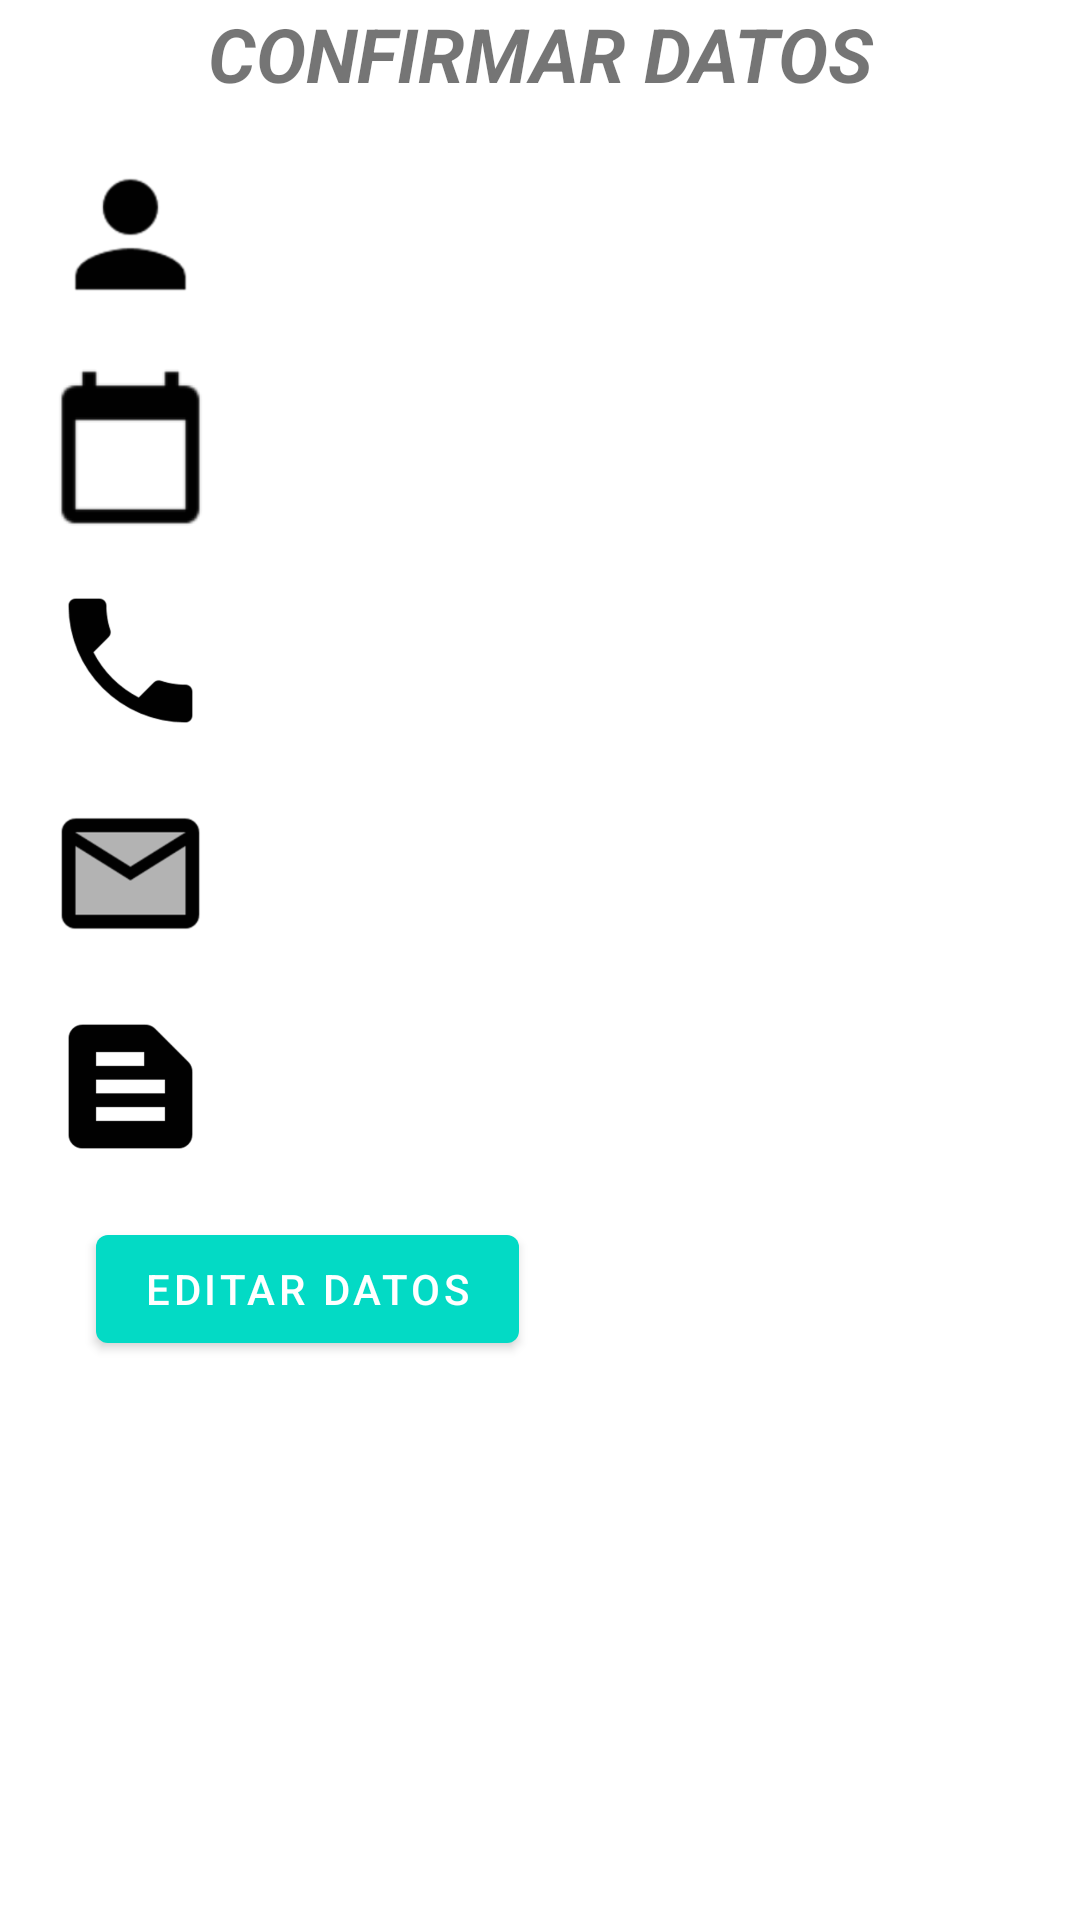

Icon bounding boxes for this 1080*1920 phone screenshot, format region(x1, y1, x2, y2):
calendar today: region(61, 371, 200, 524)
mail: region(61, 818, 200, 929)
person: region(74, 179, 187, 291)
phone: region(68, 598, 193, 723)
text snippet: region(68, 1024, 193, 1149)
